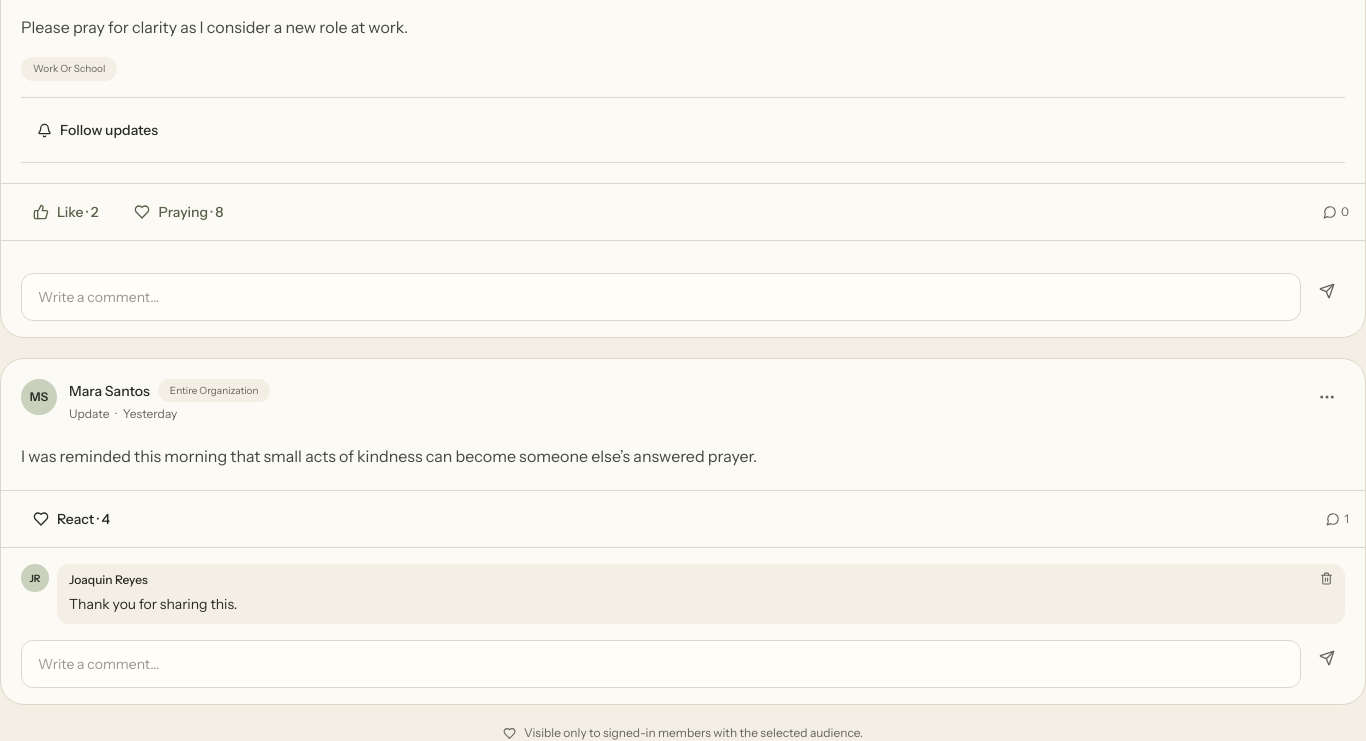
CommunityFeed › reports safety concerns without automatically hiding the post
(page scrolled)
Click the button named "Post actions". click: (1327, 397)
box: [1309,379,1345,415]
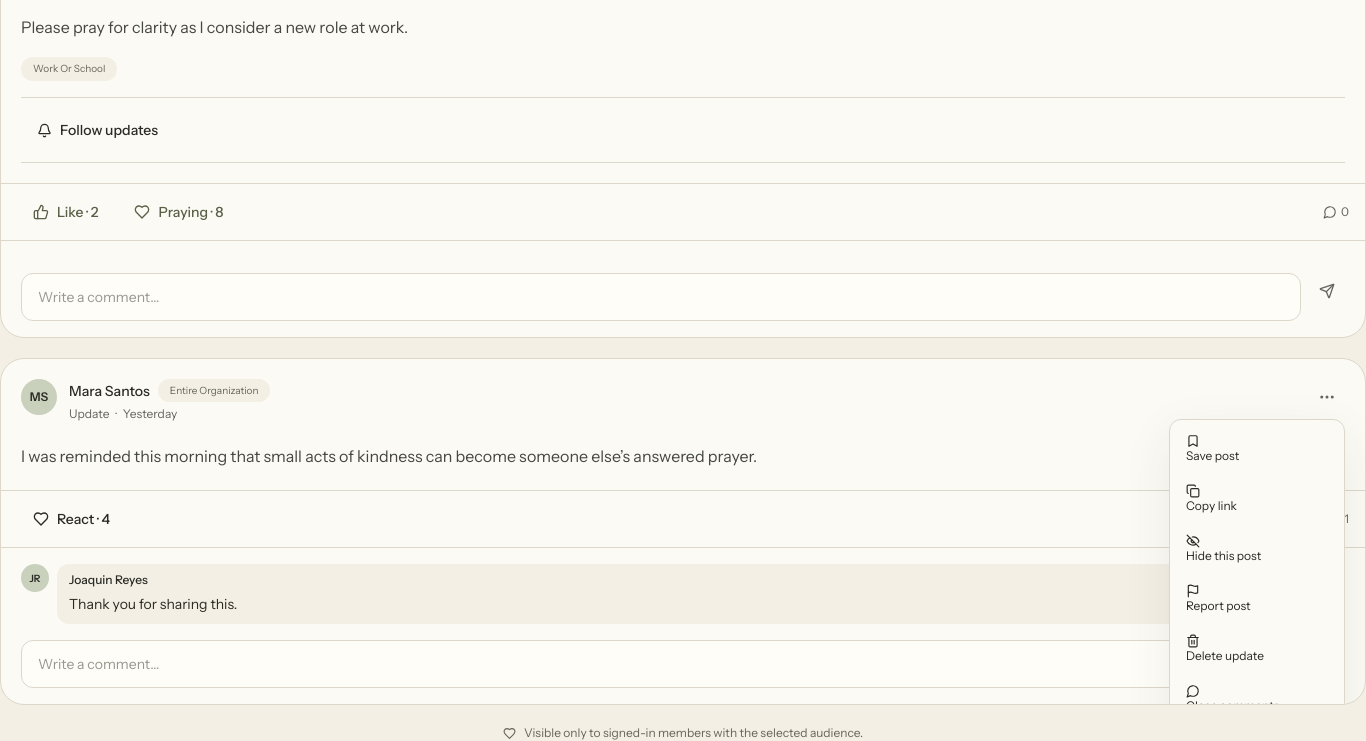
Click the menu item "Report post". click: (1257, 599)
box: [1170,574,1344,624]
(page scrolled)
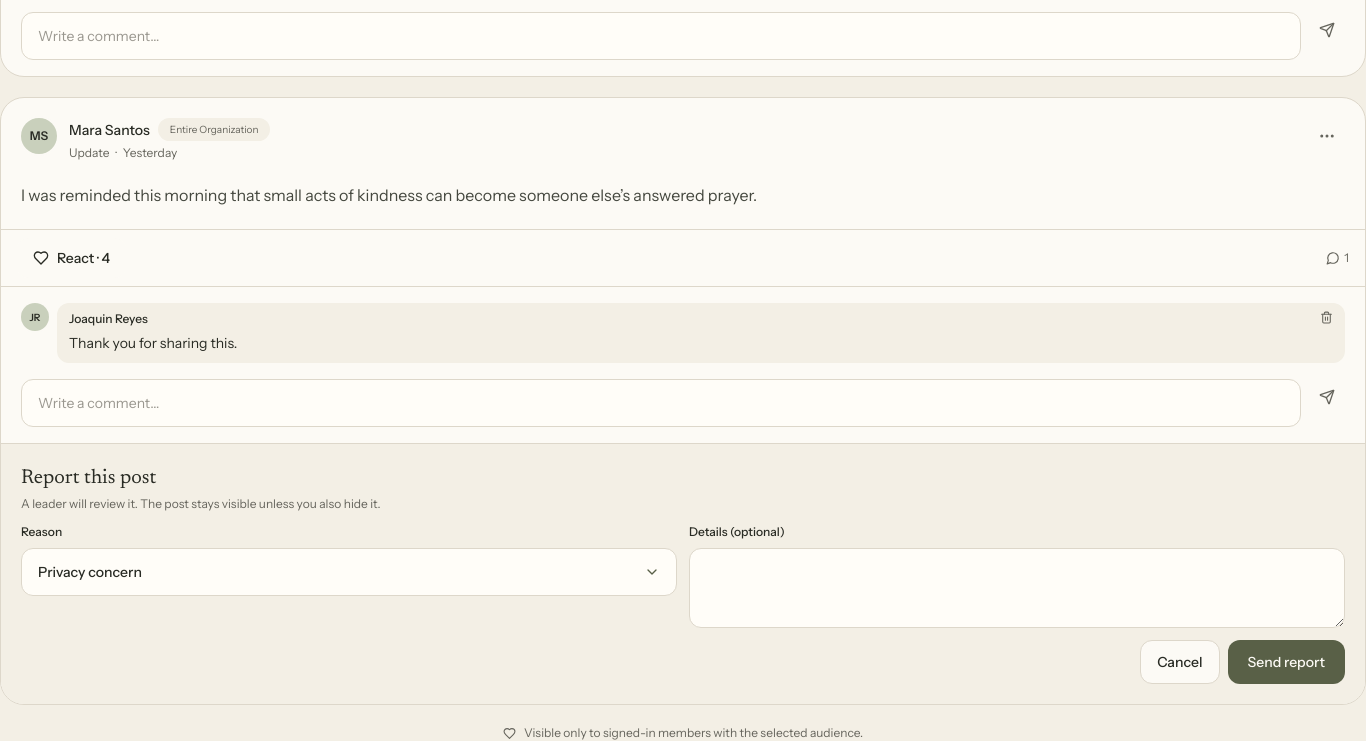
Type "Please review the personal detail." into the text box labelled "Details (optional)". click: (1017, 588)
box: [689,548,1345,628]
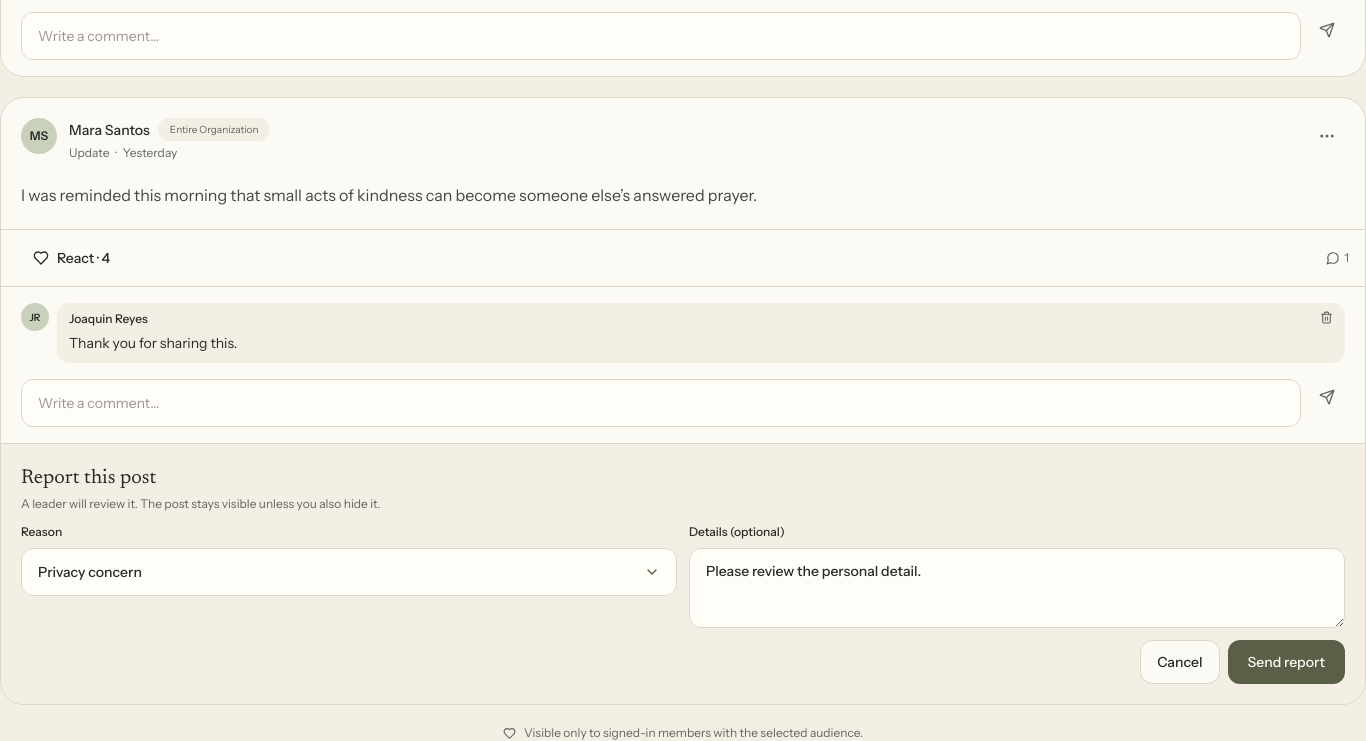
Click the button "Send report". click: (1286, 662)
box: [1228,640,1345,684]
(page scrolled)
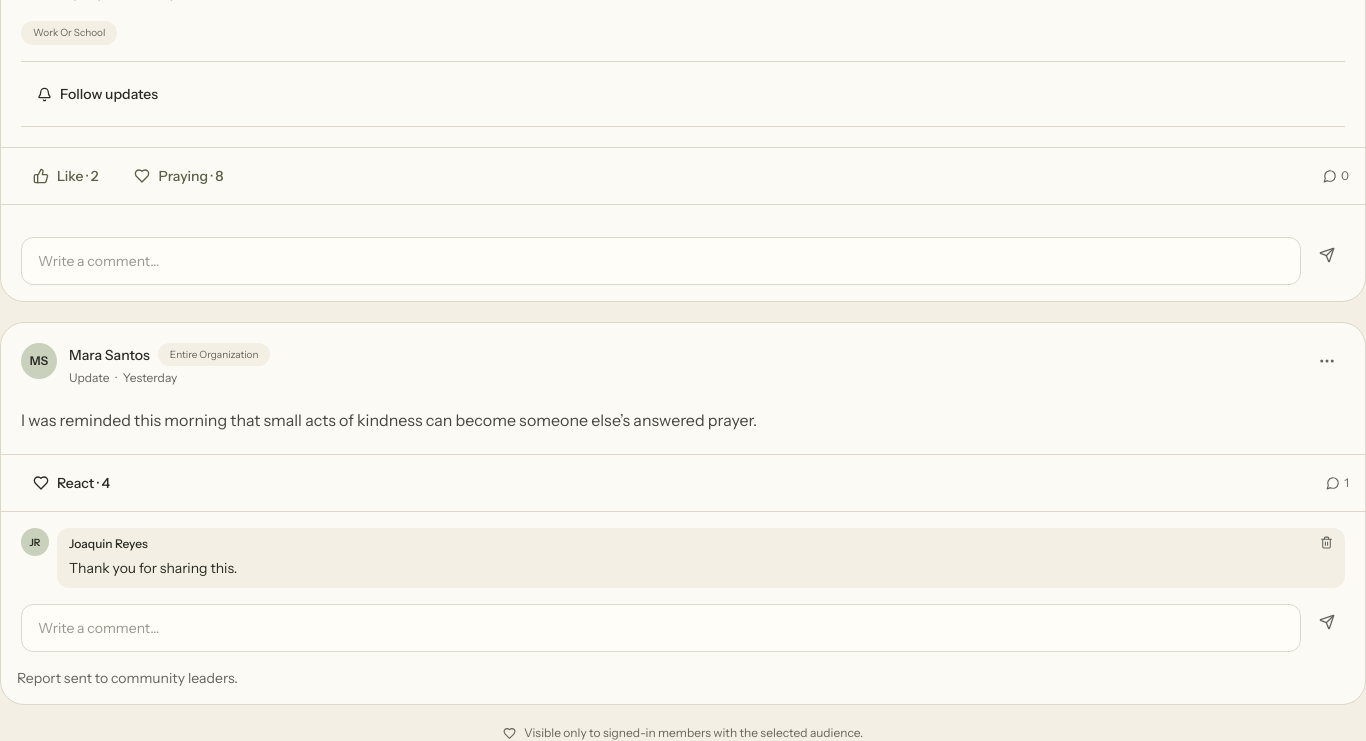
Expected: the element named "small acts of kindness" is shown, [0,322,1365,705]
Result: the text "Report sent to community leaders." is shown at [17,669,238,687]
